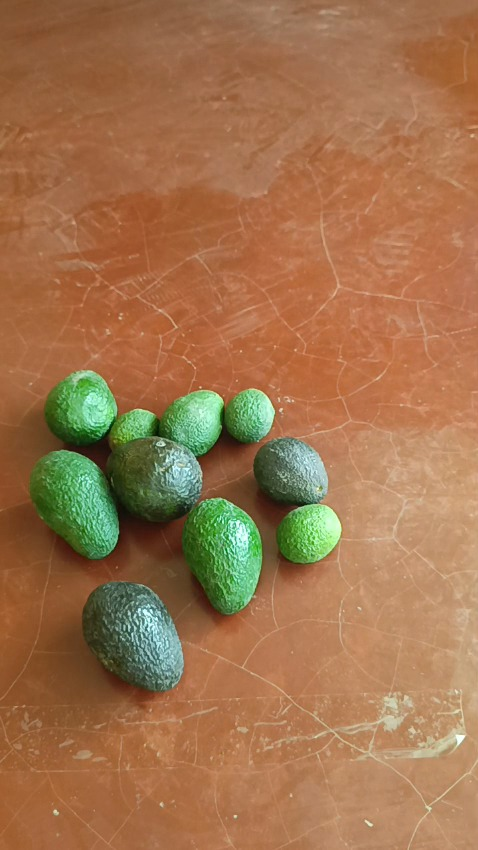Primera: (81, 580, 184, 689), (29, 450, 120, 559), (181, 498, 262, 612), (108, 438, 204, 523), (43, 370, 117, 445)
Segunda: (253, 437, 327, 506), (158, 389, 224, 457)
Tercera: (276, 503, 341, 563), (223, 388, 274, 442), (109, 408, 160, 452)
